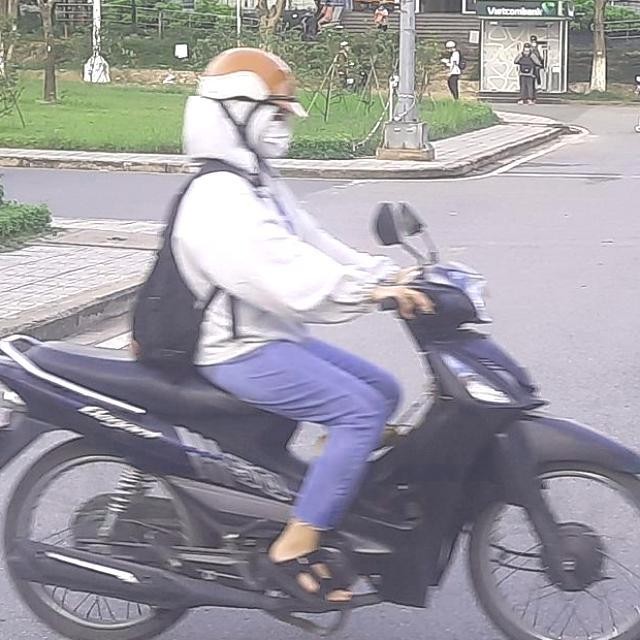Helmet: (192, 46, 310, 170)
